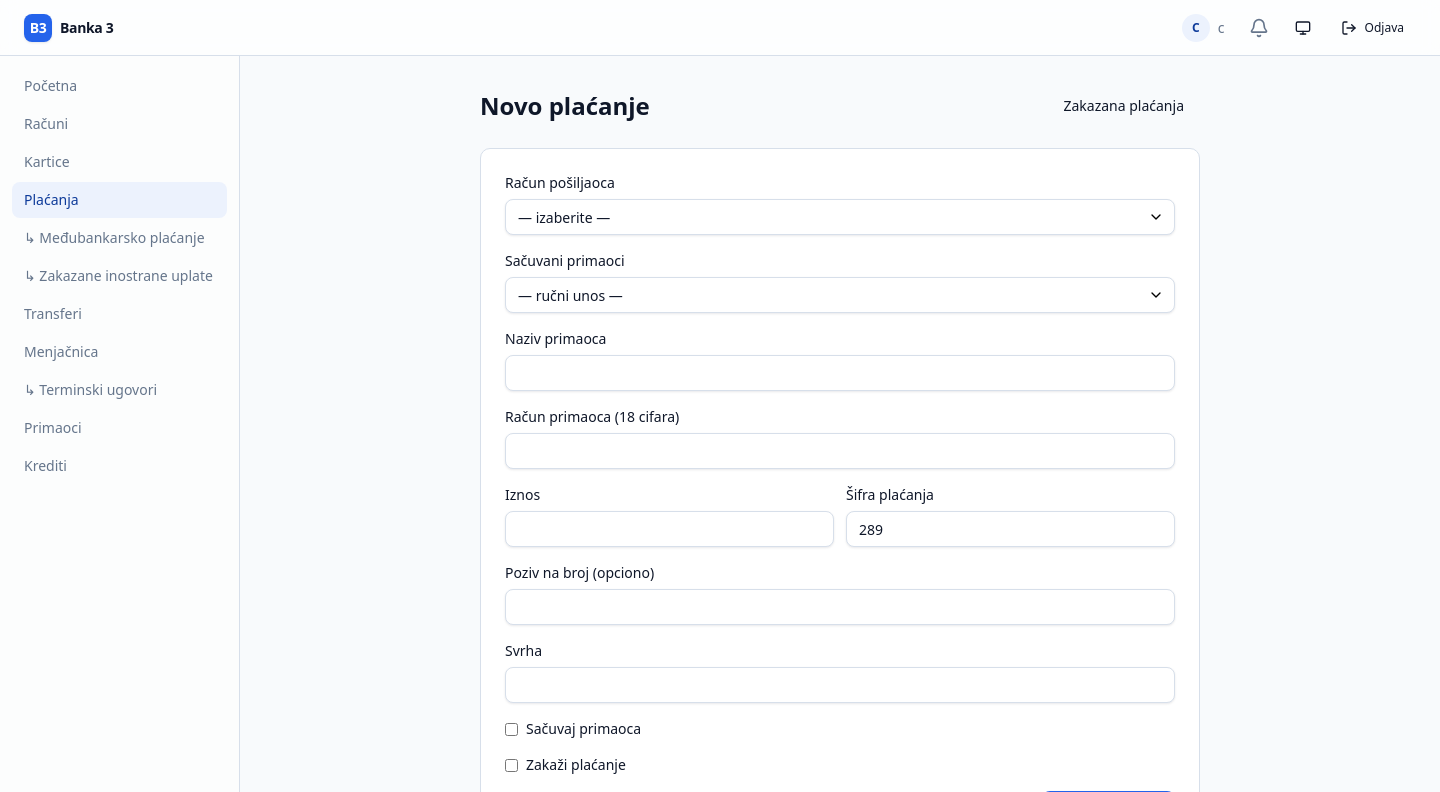
Test case: Celina 2 — primaoci › sa /banking/placanja predefinisani primalac popuni polja na formi
This screenshot has width=1440, height=792.
Select "EPS Snabdevanje · 160-0054-123456789-05" in the dropdown below "Sačuvani primaoci" at point(840, 295), box [505,277,1175,313]
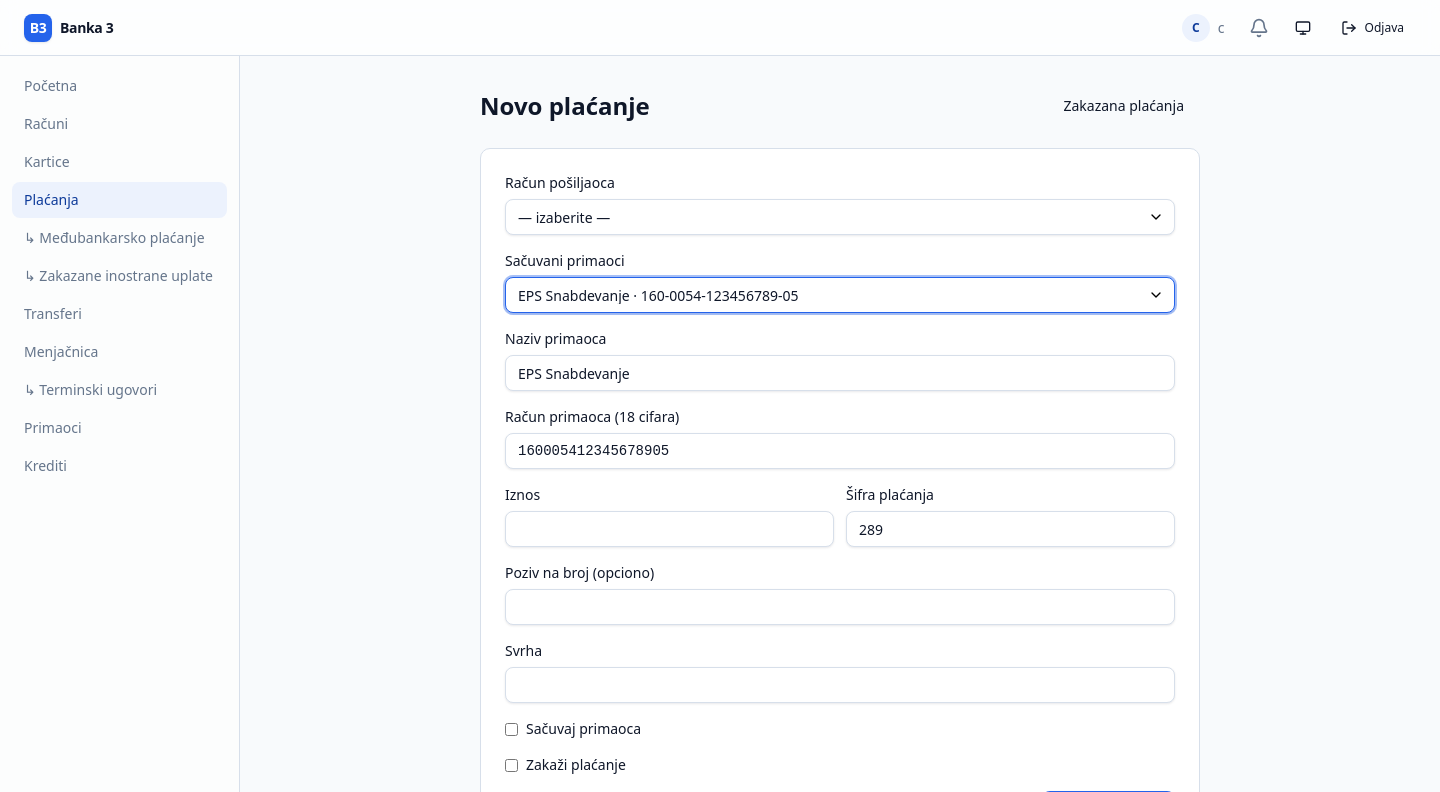
Result: the field named "recipientName" below "Naziv primaoca" holds "EPS Snabdevanje" at [505,355,1175,391]
Result: the field named "toAccountNumber" below "Račun primaoca (18 cifara)" holds "160005412345678905" at [505,433,1175,469]
